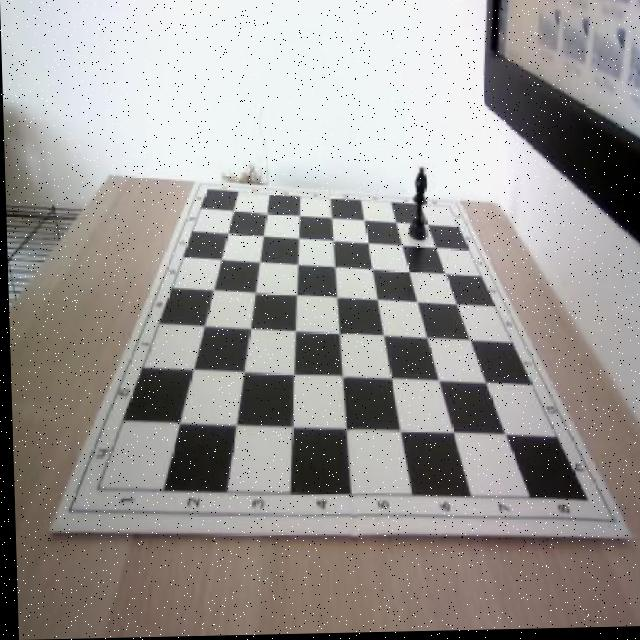bishop: (404, 166, 429, 244)
